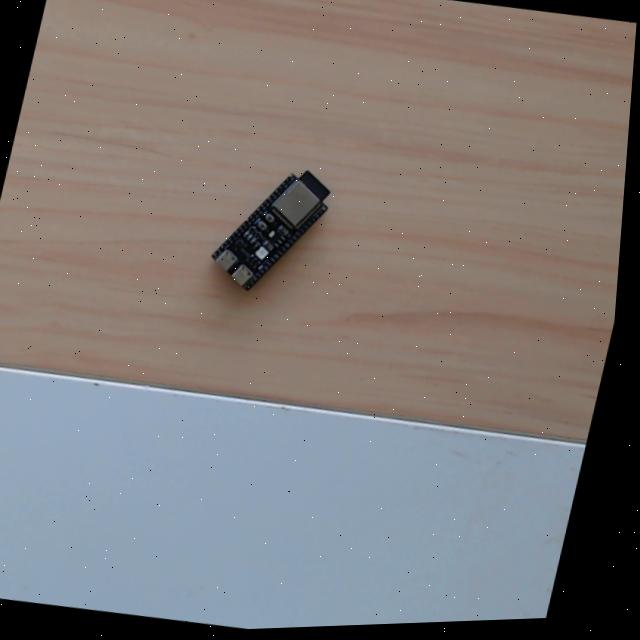ESP32S3-Devkit: (208, 158, 341, 293)
